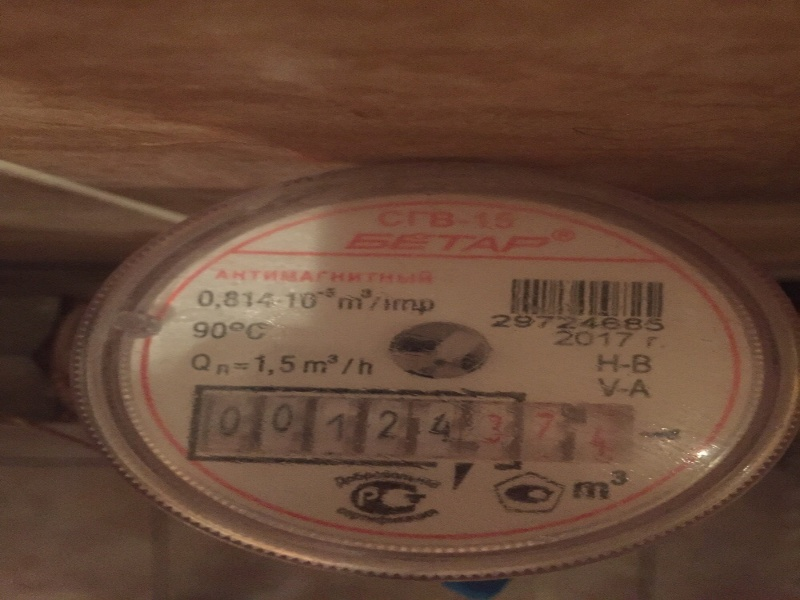meter: (201, 398, 618, 468)
